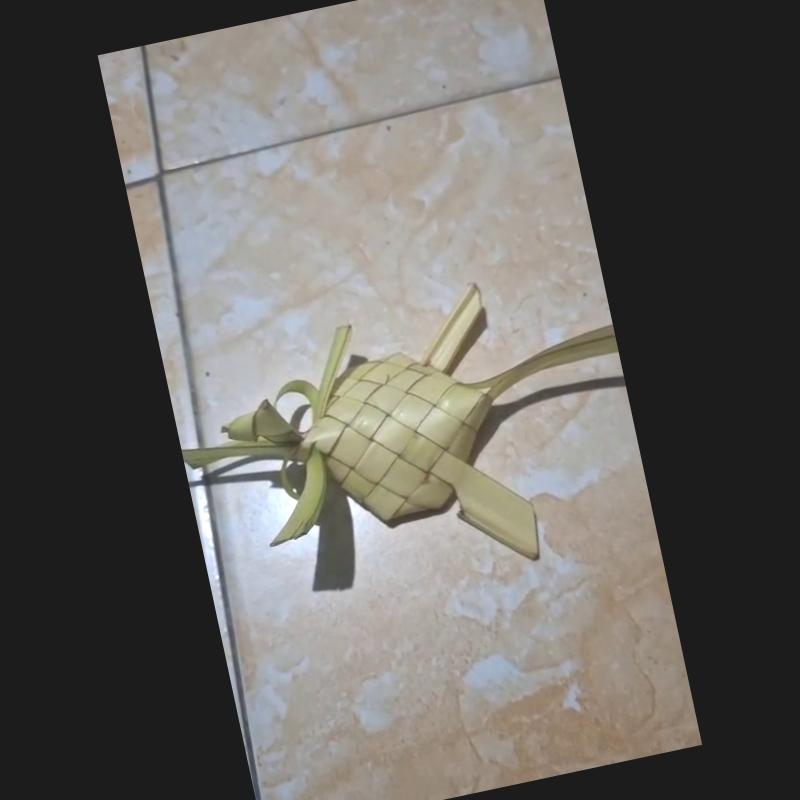Tipat Dampulan: (180, 279, 619, 565)
